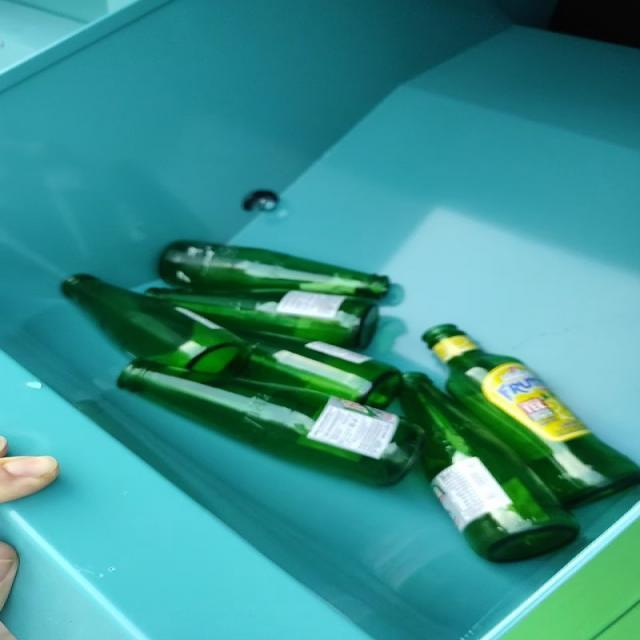Glass: (64, 242, 640, 562)
